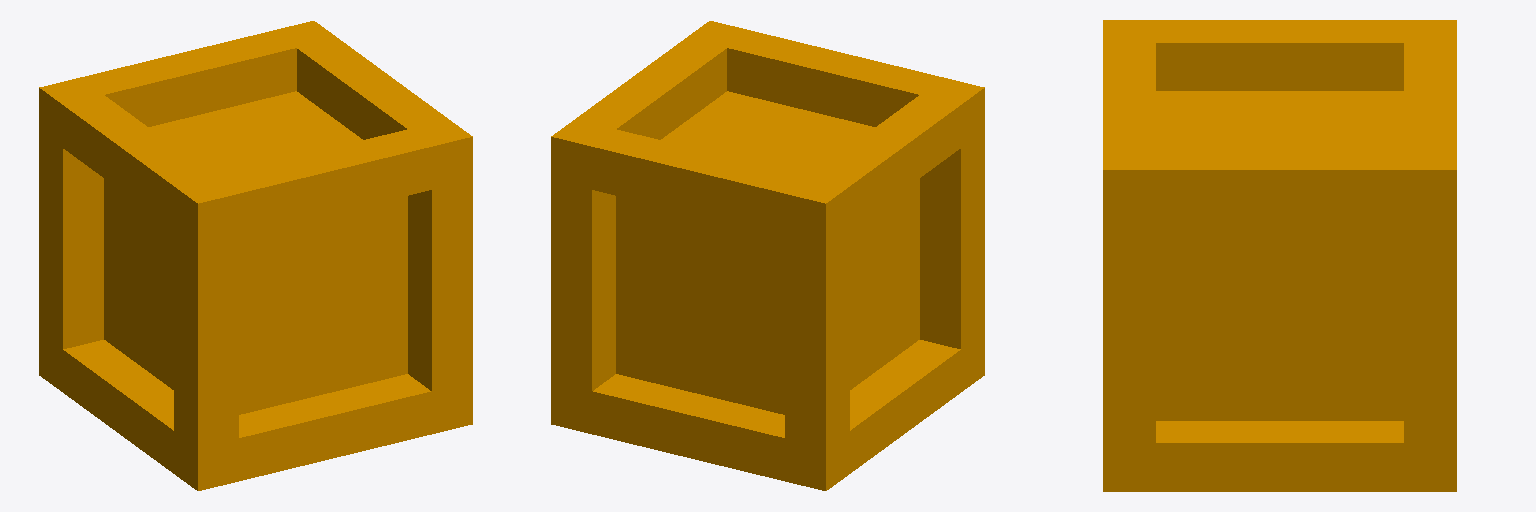
robot.urdf — indented_box:
<?xml version="1.0"?>
<robot name="indented_box">
  <link name="box">

    <!-- Visual -->
    <visual>
      <origin xyz="0 0 0" rpy="0 0 0"/>
      <geometry>
        <mesh filename="indented_box.obj" scale="0.4 0.4 0.4"/>
      </geometry>
    </visual>

    <!-- Collision -->
    <collision>
      <origin xyz="0 0 0" rpy="0 0 0"/>
      <geometry>
        <mesh filename="indented_box.obj" scale="0.4 0.4 0.4"/>
      </geometry>
    </collision>

    <!-- Inertial -->
    <inertial>
      <origin xyz="0 0 0" rpy="0 0 0"/>
      <mass value="10"/>
      <!-- Provide a simple inertia tensor (approximate box). Adjust if needed -->
      <inertia ixx="0.5" iyy="0.5" izz="0.5" ixy="0" ixz="0" iyz="0"/>
    </inertial>

  </link>
</robot>

--- Render facts (derived) ---
3 views of the same robot in one strip: view 1: azimuth 30°, elevation 25°; view 2: azimuth 150°, elevation 25°; view 3: azimuth 270°, elevation 25° (orthographic).
Model indented_box with 1 links and 0 joints (none), rooted at box, posed all joints at 0.
Visible links, largest first — view 1: box; view 2: box; view 3: box.
Link boxes in pixels (x1,y1,x2,y2): box: [39, 21, 472, 490]; box: [551, 21, 984, 490]; box: [1103, 20, 1456, 491].
Size in the robot's own frame: 0.4 by 0.4 by 0.4 metres.
Meshes: 1 distinct files referenced, 1 mesh visuals loaded (1 OBJ).
